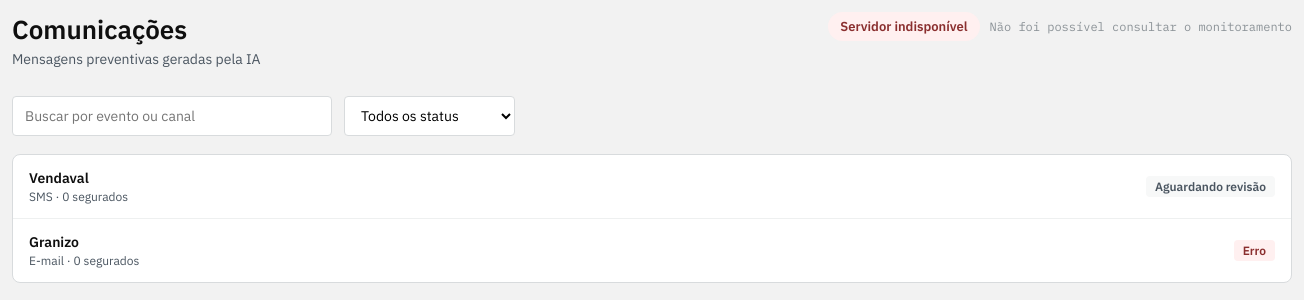
Test case: CommunicationsPage › filters the list by search text
The width and height of the screenshot is (1304, 300).
Expected: the text "Vendaval" is shown, x1=29 y1=169 x2=89 y2=187
In the field named "Buscar comunicações por evento ou canal": (172, 116) x1=12 y1=96 x2=332 y2=136, type "granizo"
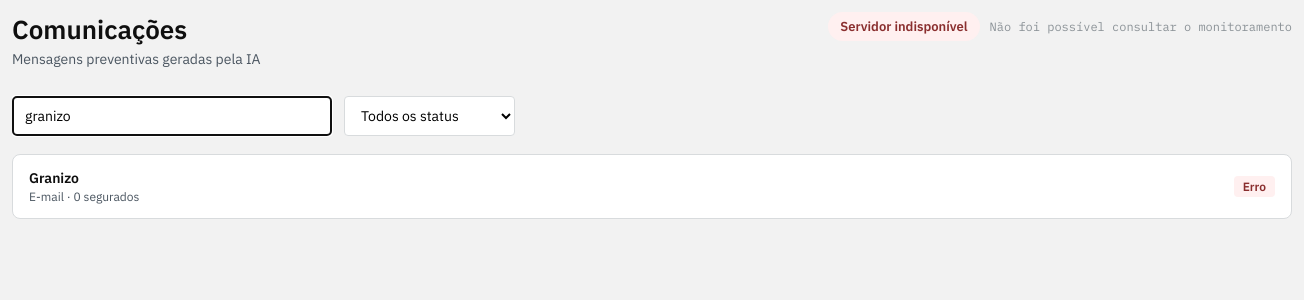
Expected: the text "Granizo" is shown, x1=29 y1=169 x2=79 y2=187
Expected: the link "Vendaval" is gone
